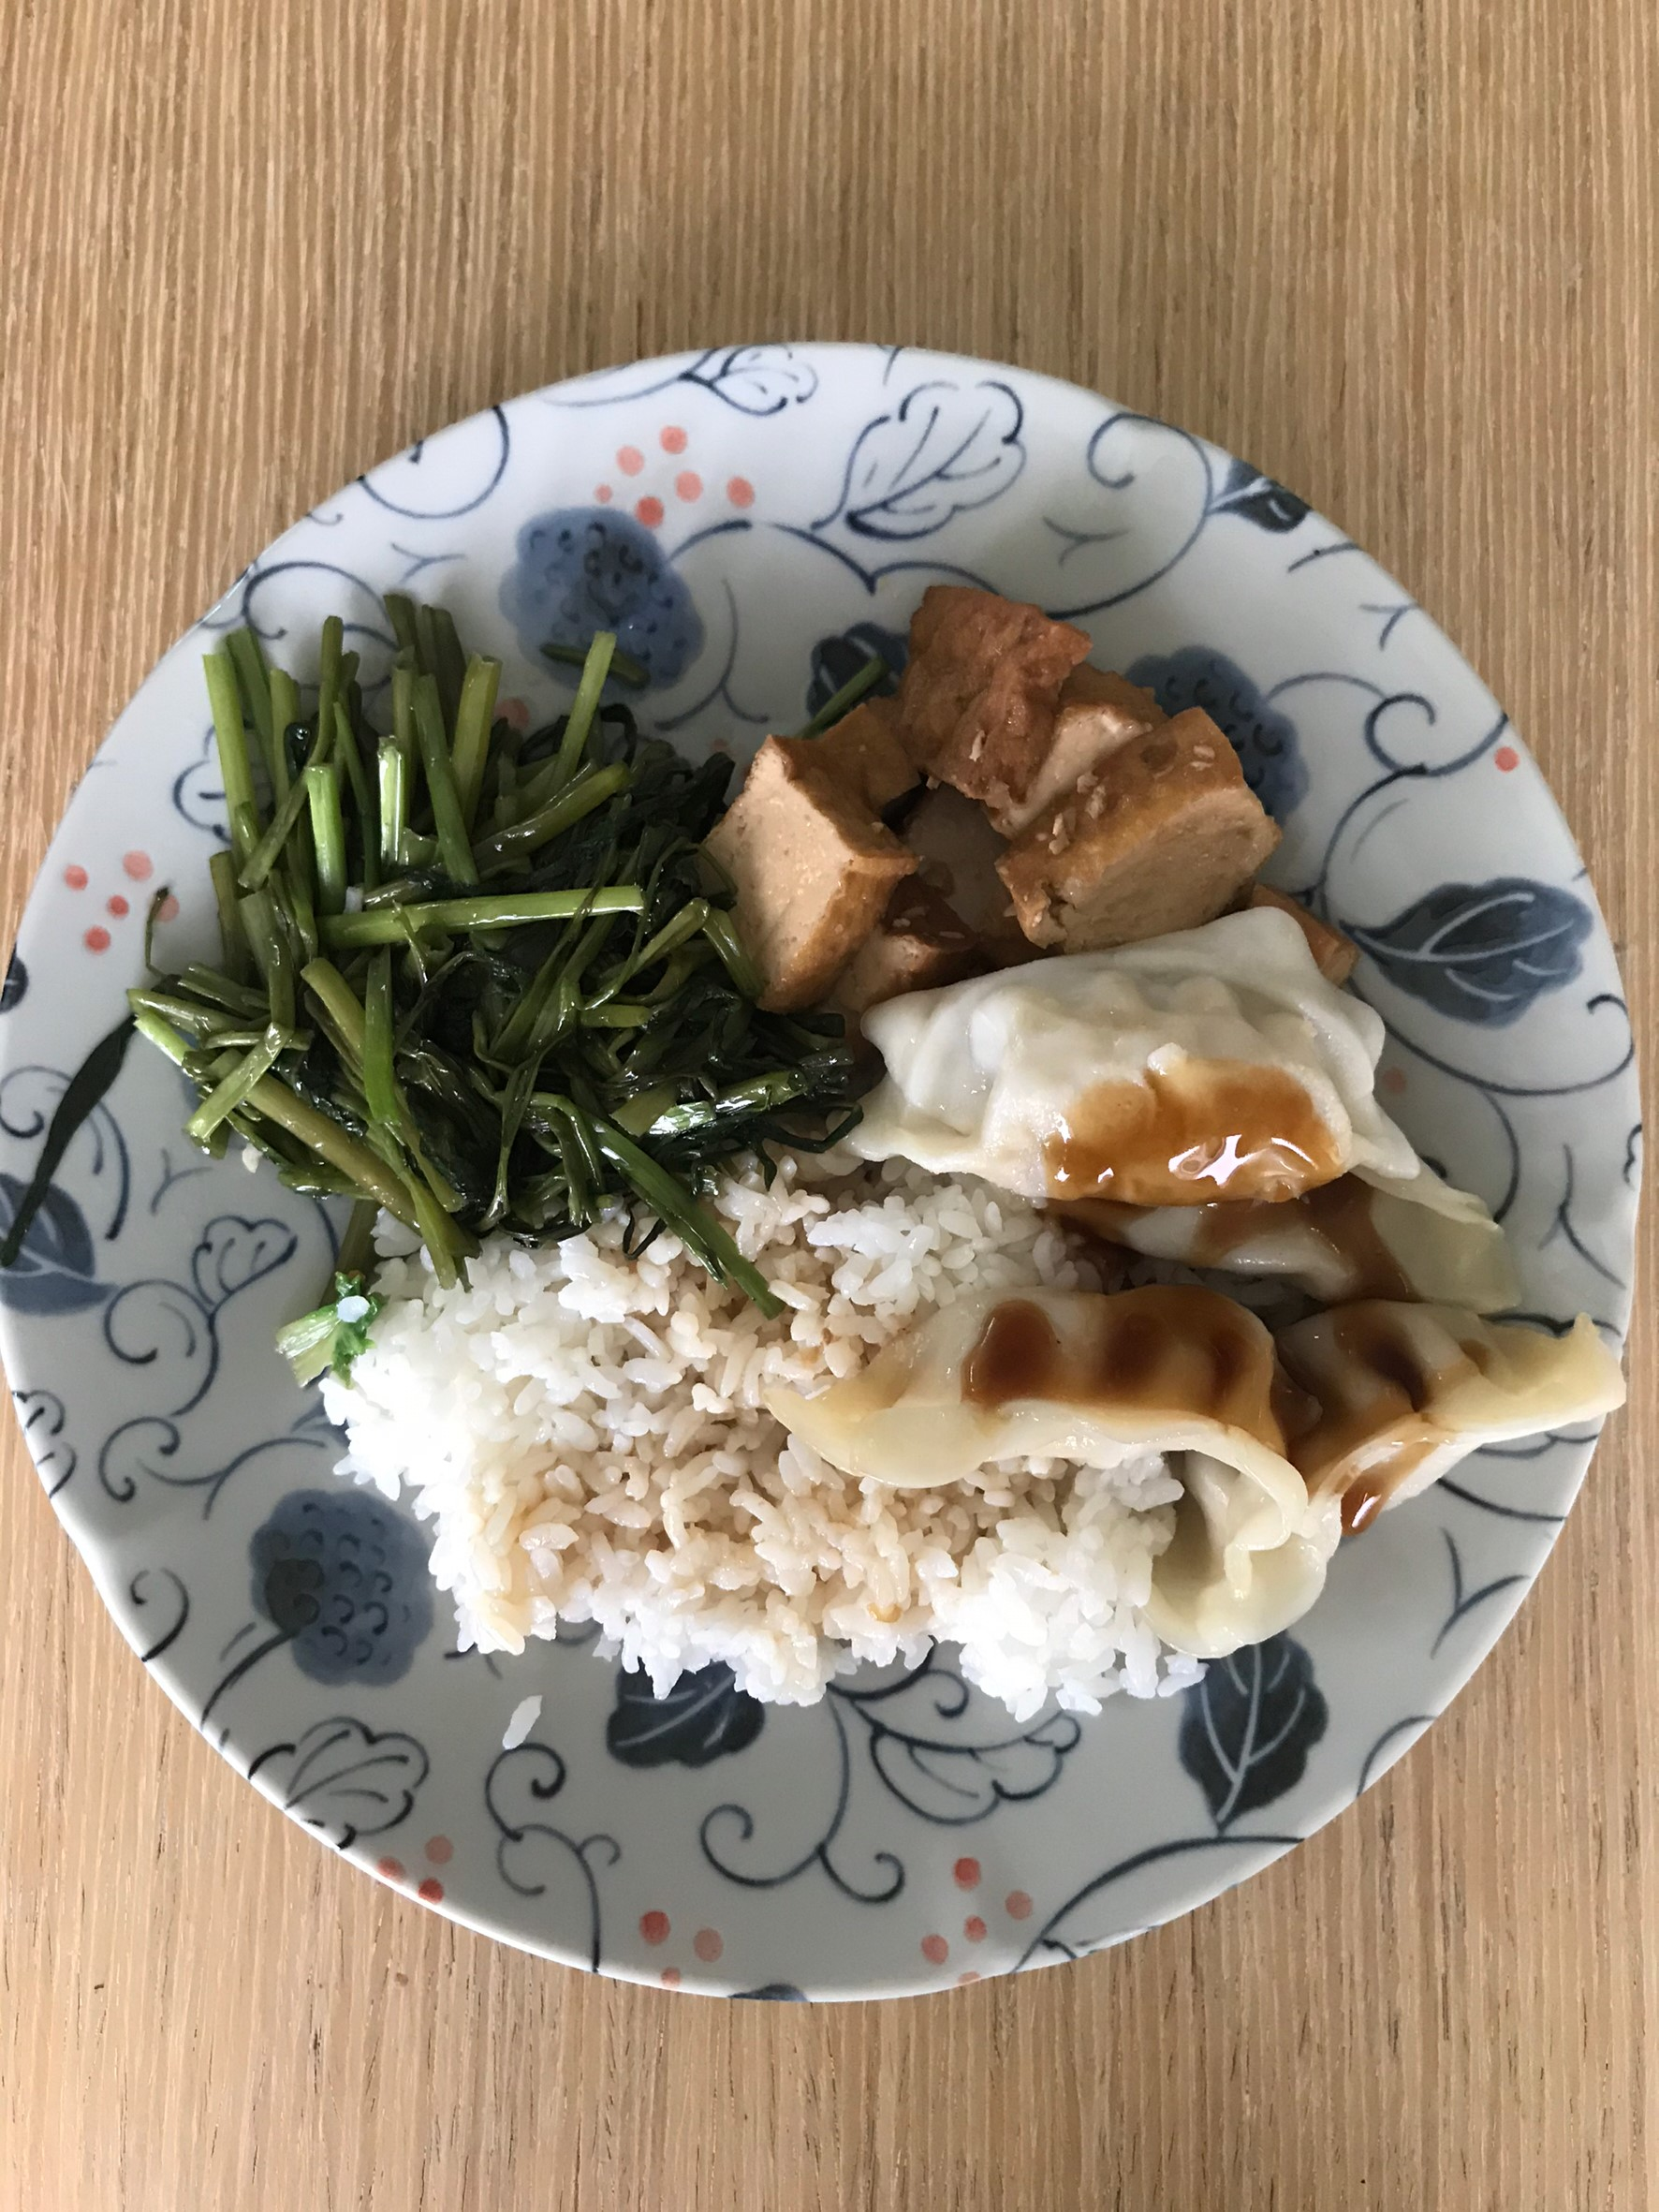fried_dumplings: (917, 983, 1480, 1503)
rice: (441, 1285, 833, 1659)
water_spinach: (234, 746, 694, 1159)
